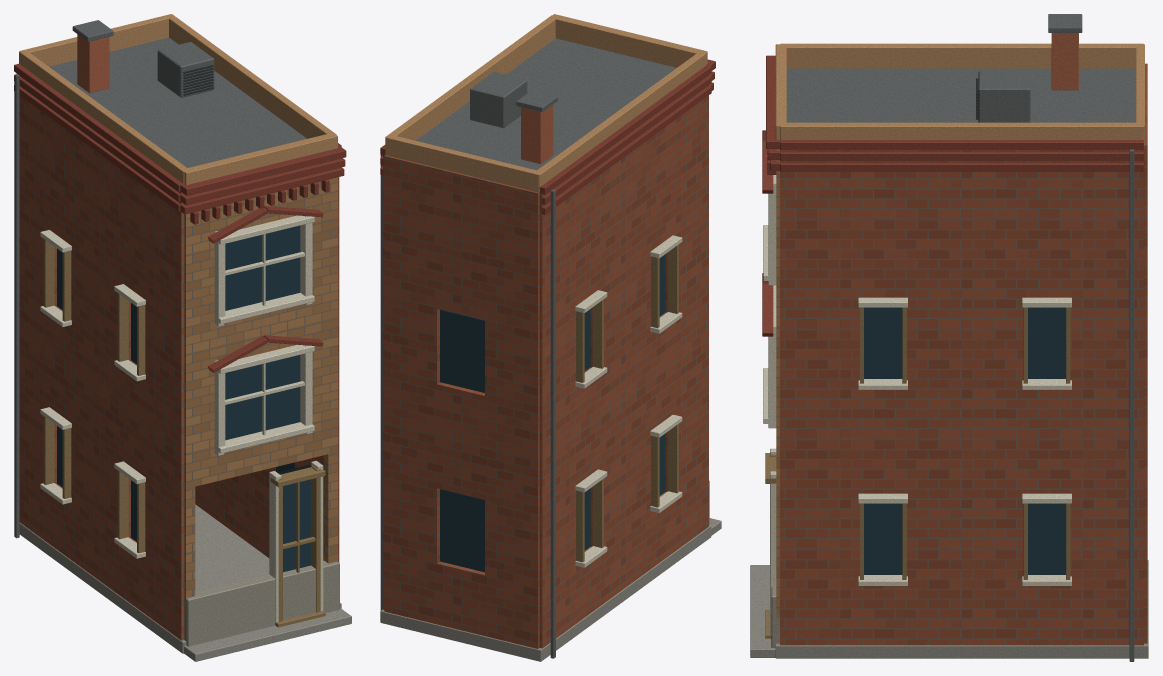
The model's file is VICT1A_lod1.glb.
3 views of the same model, side by side, from view 1: azimuth 30°, elevation 25°; view 2: azimuth 150°, elevation 25°; view 3: azimuth 270°, elevation 25° (orthographic). The views are drawn at different scales.
Visible parts, largest first — view 1: VICT1A_LOD1; view 2: VICT1A_LOD1; view 3: VICT1A_LOD1.
Boxes of the visible parts, x1,y1,x2,y2 form: VICT1A_LOD1: (14, 14, 351, 661); VICT1A_LOD1: (380, 14, 721, 661); VICT1A_LOD1: (750, 14, 1148, 661).
Bounding box in the file's own units: 3.71 × 10.45 × 6.57.
13 materials, 11 textured.
